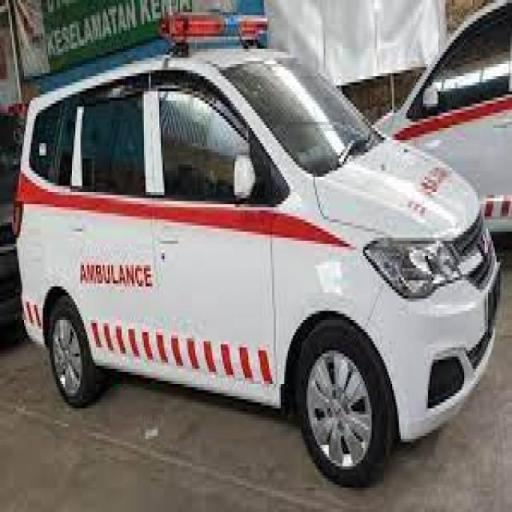Police car: (14, 12, 500, 485)
